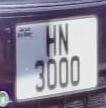0: (57, 53, 71, 94), (45, 56, 59, 94), (69, 52, 82, 92)
3: (31, 57, 47, 97)
H: (44, 23, 60, 60)
N: (58, 20, 71, 59)
